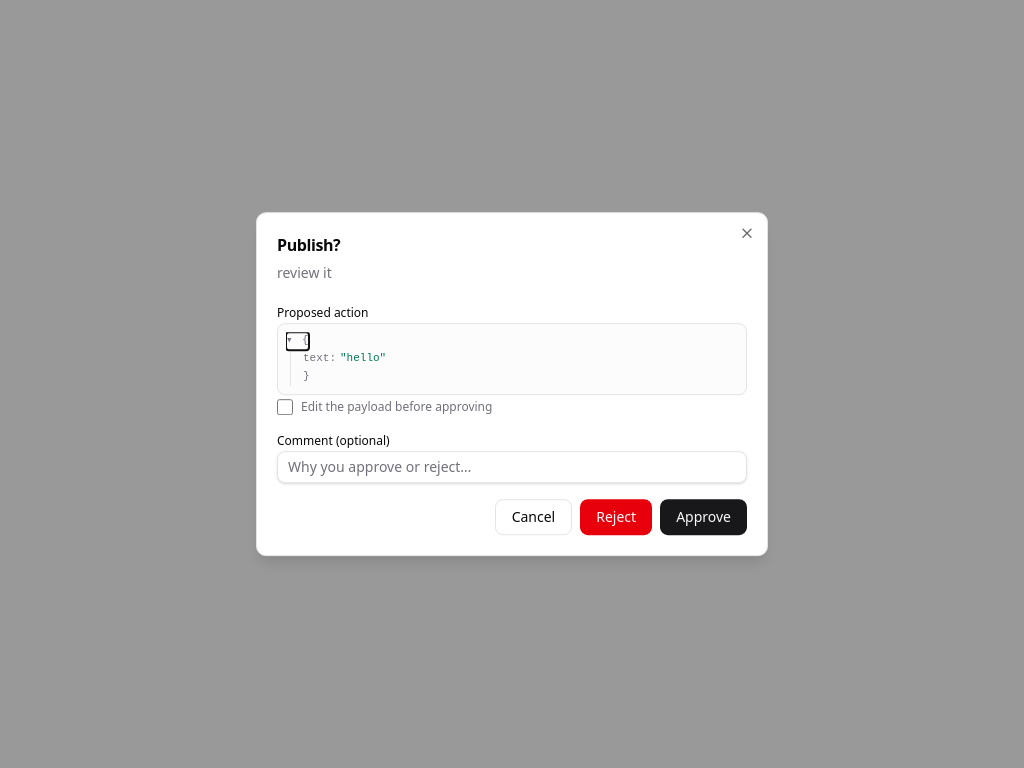
Scenario: DecisionDialog › surfaces a 422's issues
The image size is (1024, 768).
Click the button with test id "decision-approve".
click(704, 517)  # box [660,499,747,535]
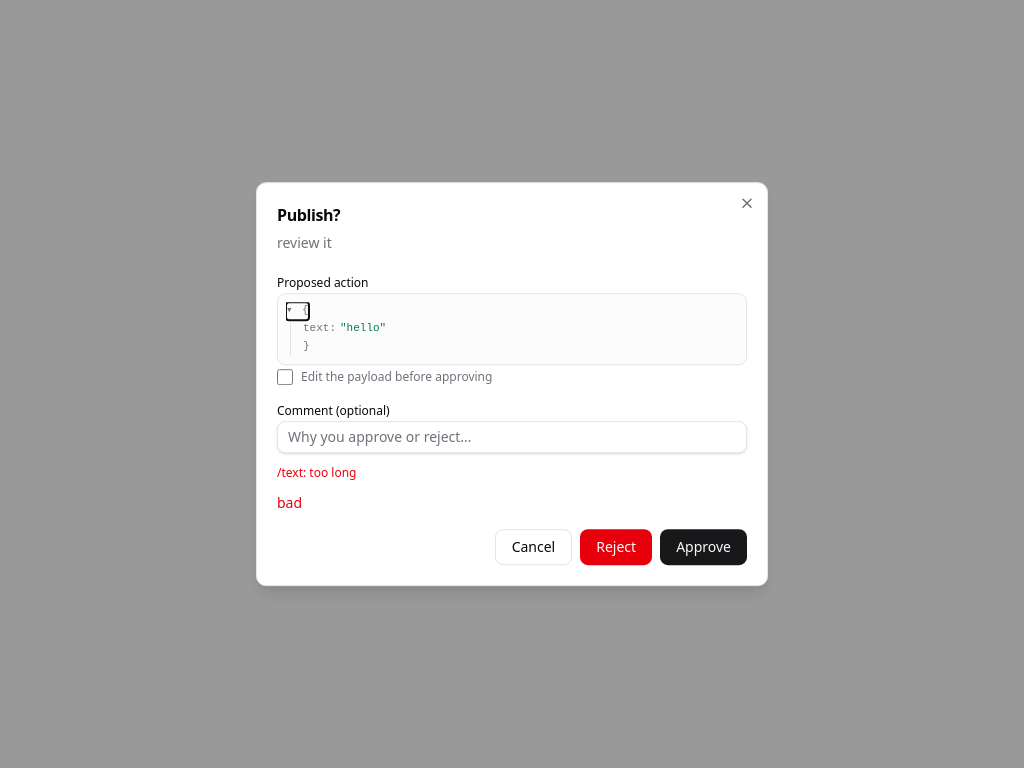
Check: the list with test id "decision-issues" shows "too long", box [309,464,356,481]
